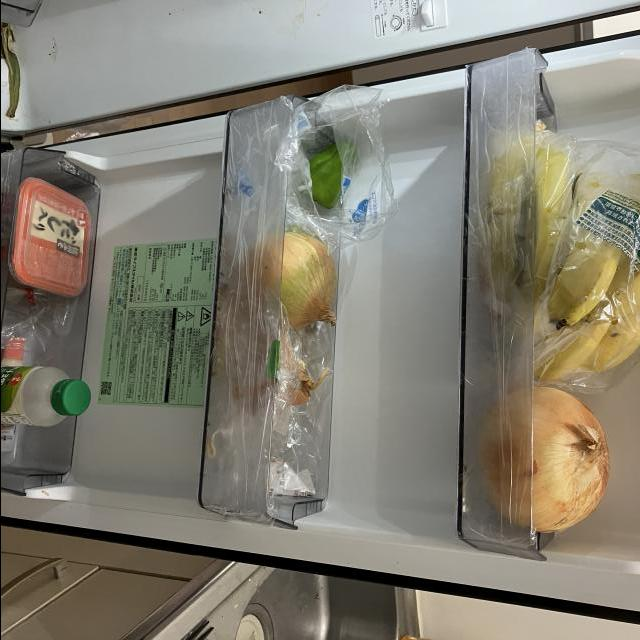onion: (474, 385, 612, 534), (245, 232, 338, 336), (267, 352, 335, 416)
